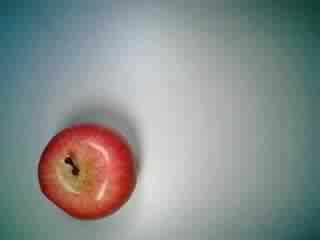apple: (36, 122, 140, 223)
